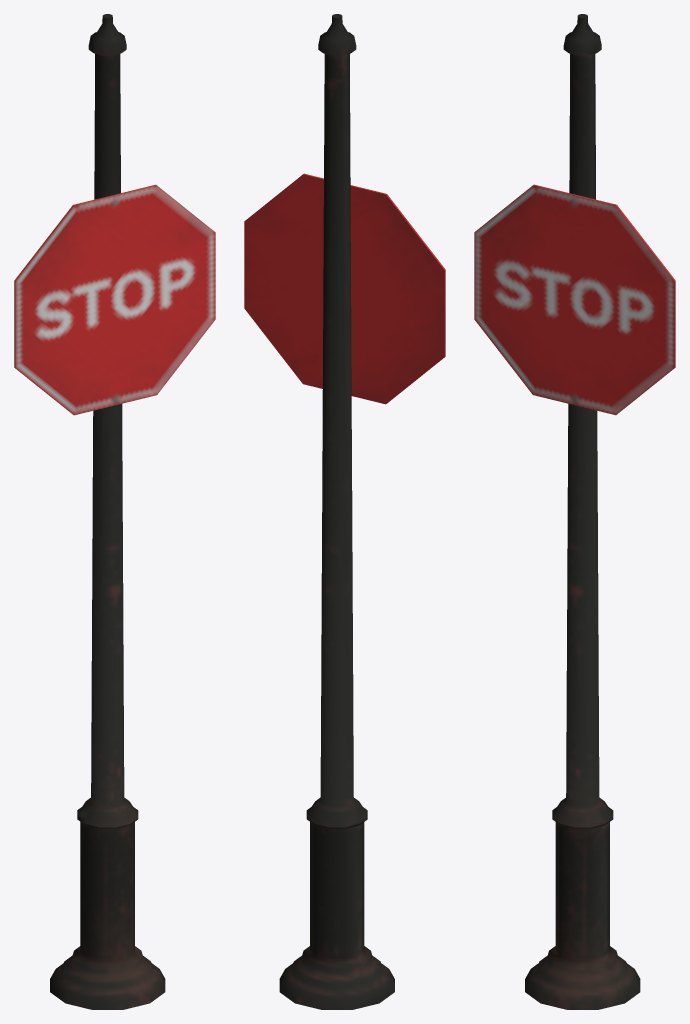
The model's file is o3_segnale_stop.glb.
3 renders of one model, left to right at view 1: azimuth 30°, elevation 25°; view 2: azimuth 150°, elevation 25°; view 3: azimuth 330°, elevation 25°, orthographic.
Visible parts, largest first — view 1: sb_modello; view 2: sb_modello; view 3: sb_modello.
Boxes of the visible parts, box(x1,y1,x2,y2) form: sb_modello: box(14, 14, 215, 1009); sb_modello: box(244, 14, 445, 1009); sb_modello: box(474, 14, 675, 1009).
Size of the model in its own units: 0.7684 by 3.55 by 0.3832.
Materials: 1 (1 with a texture image).
